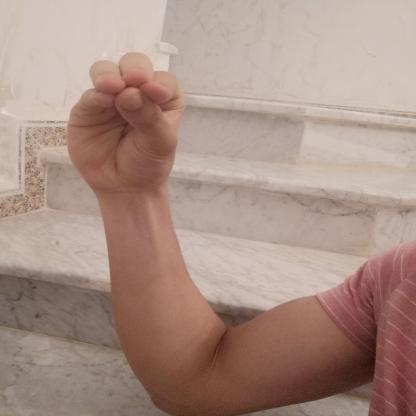HA: (41, 40, 202, 205)
